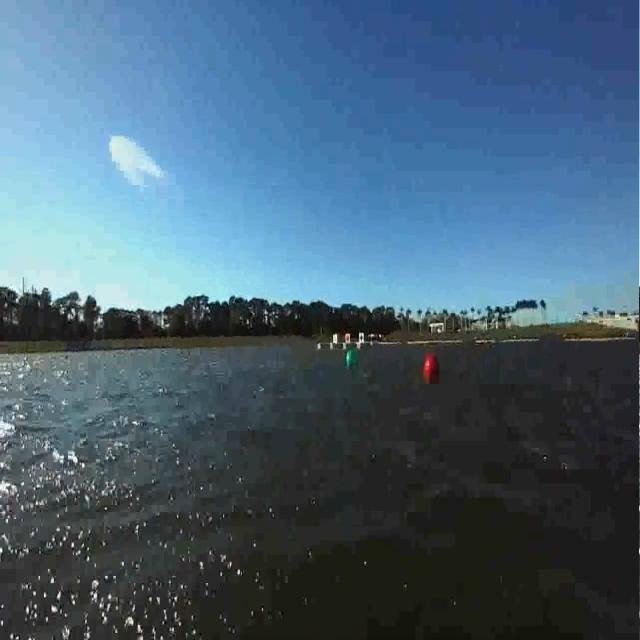green-buoy: (345, 347, 361, 373)
red-buoy: (421, 354, 441, 392)
